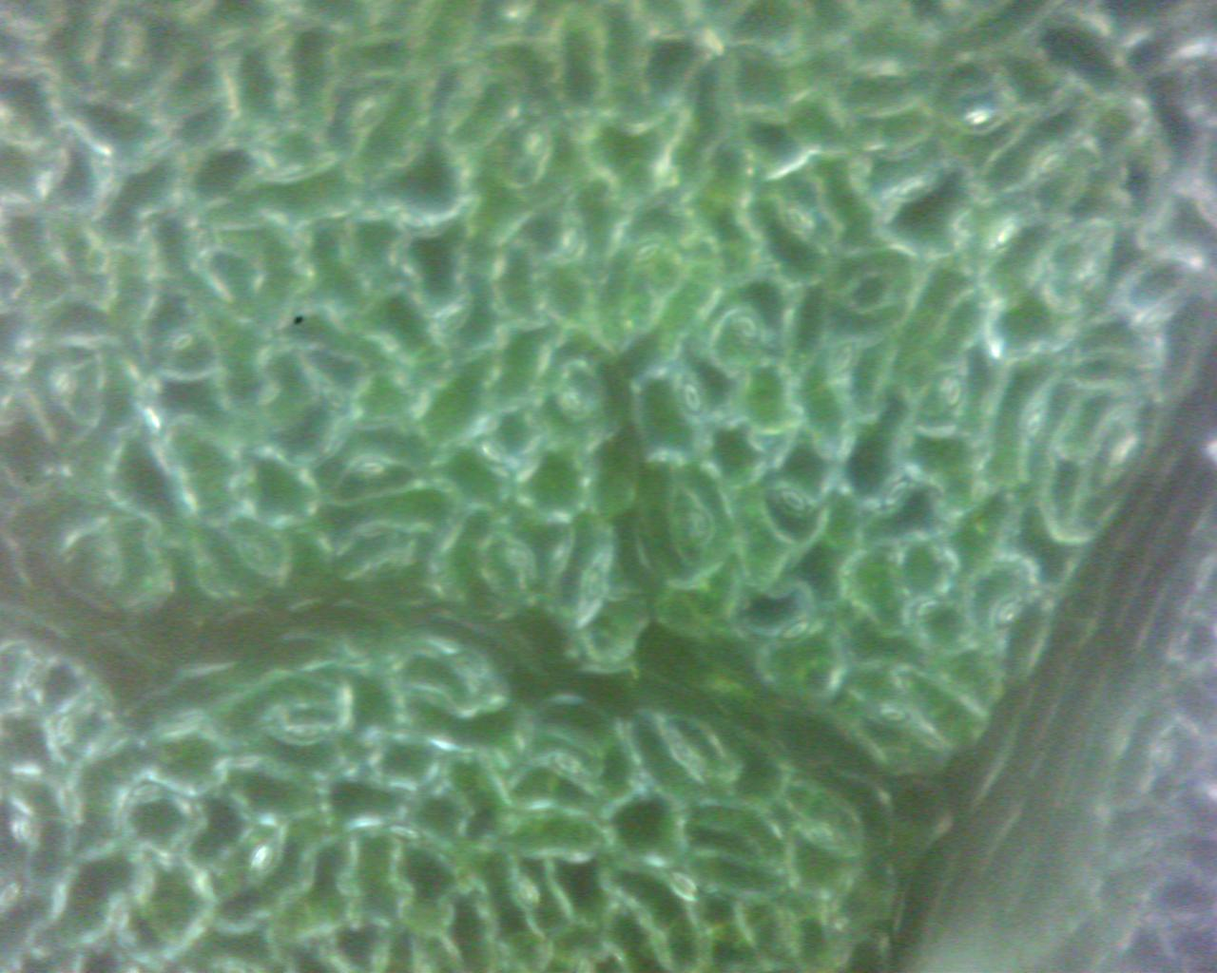stomata: (282, 716, 330, 745), (387, 819, 426, 845), (394, 211, 433, 235), (962, 109, 1002, 132), (679, 379, 703, 414), (669, 868, 701, 894), (192, 225, 215, 261), (478, 438, 508, 465), (630, 243, 665, 266), (53, 369, 77, 402), (876, 703, 909, 727), (243, 539, 271, 567), (884, 479, 910, 509), (1140, 912, 1176, 933), (587, 566, 608, 602), (357, 100, 382, 130), (444, 303, 468, 334), (805, 826, 842, 846), (894, 178, 931, 198), (944, 375, 965, 410), (368, 554, 401, 576), (1123, 836, 1157, 857), (565, 226, 586, 260), (352, 459, 391, 477), (781, 490, 809, 515), (323, 383, 347, 412), (130, 780, 164, 800), (1155, 741, 1176, 773), (1025, 410, 1044, 445), (834, 345, 856, 375), (516, 878, 539, 906), (997, 599, 1020, 627), (552, 754, 584, 774), (54, 715, 73, 748), (165, 334, 198, 353), (912, 600, 945, 619), (562, 389, 586, 415), (738, 315, 761, 342), (784, 207, 806, 235), (780, 621, 812, 640), (1039, 152, 1065, 175), (695, 511, 713, 543), (509, 544, 531, 569), (454, 657, 483, 675), (257, 845, 276, 872), (17, 814, 35, 842), (998, 221, 1016, 248)
